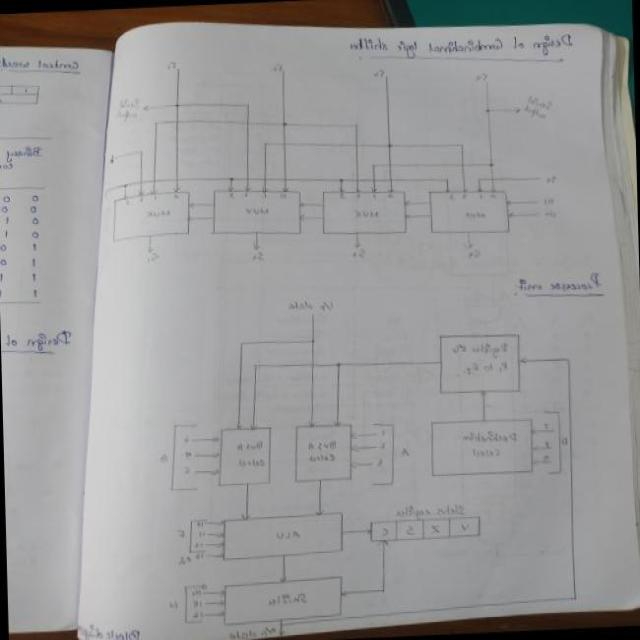Figure Detection - v3 Dataset Version2: (132, 279, 602, 640), (89, 36, 575, 285)
